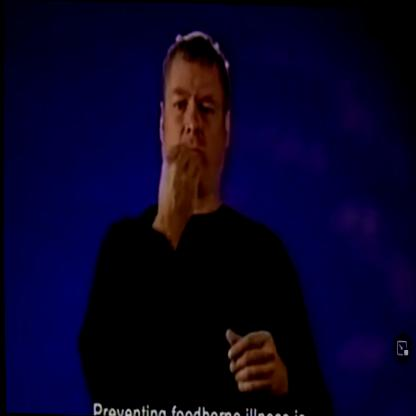Food: (145, 28, 239, 229)
